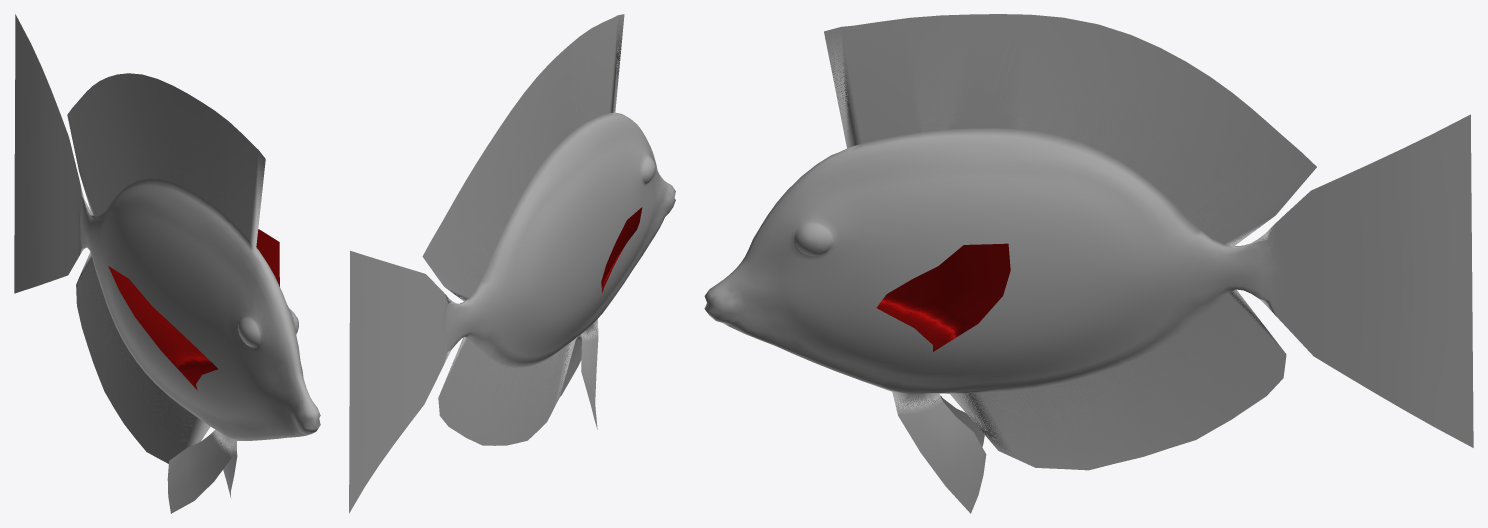
File: Acanthuridae_A.fbx
The picture shows the model from 3 angles, left to right: view 1: azimuth 30°, elevation 25°; view 2: azimuth 150°, elevation 25°; view 3: azimuth 270°, elevation 25°; orthographic projection. The views are drawn at different scales.
Visible parts, largest first — view 1: Acanthuridae_A_LOD0; view 2: Acanthuridae_A_LOD0; view 3: Acanthuridae_A_LOD0.
Part boxes in pixels (x1,y1,x2,y2): Acanthuridae_A_LOD0: (14, 14, 320, 513); Acanthuridae_A_LOD0: (349, 14, 675, 513); Acanthuridae_A_LOD0: (704, 14, 1473, 513).
Size of what is drawn, in the model's own units: 0.2764 by 0.6998 by 1.01.
